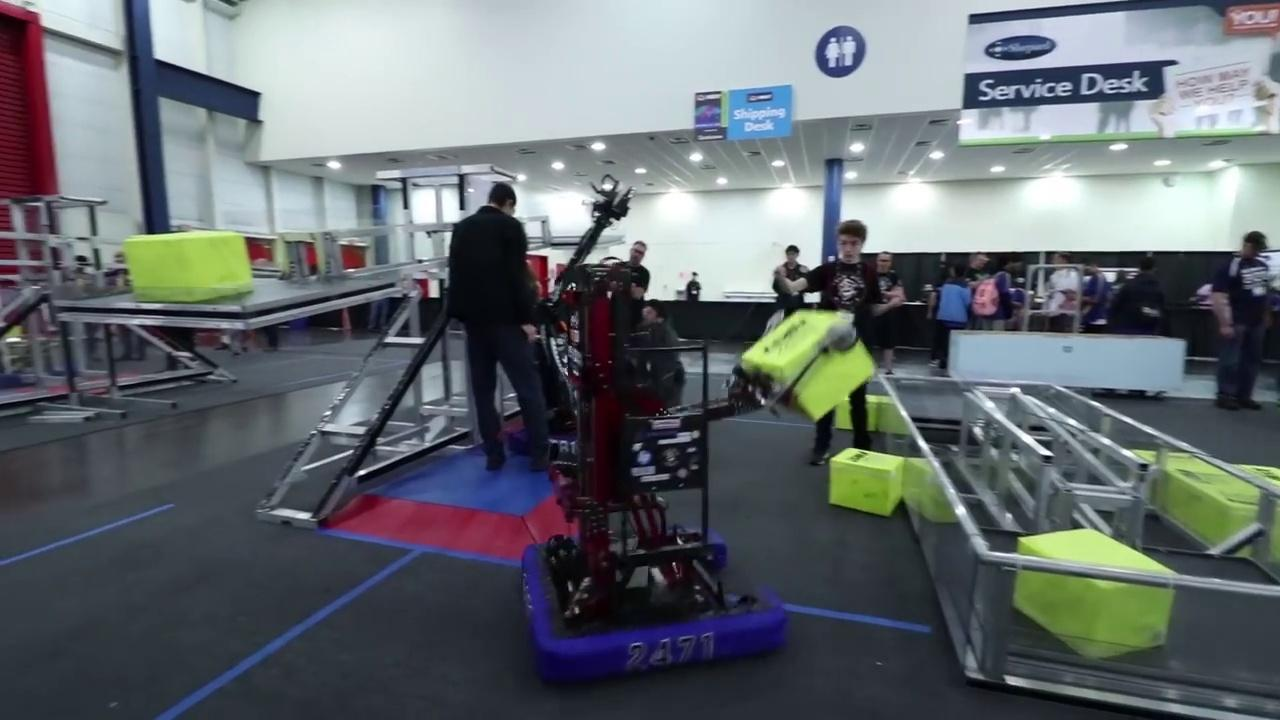robot: (508, 244, 796, 690)
